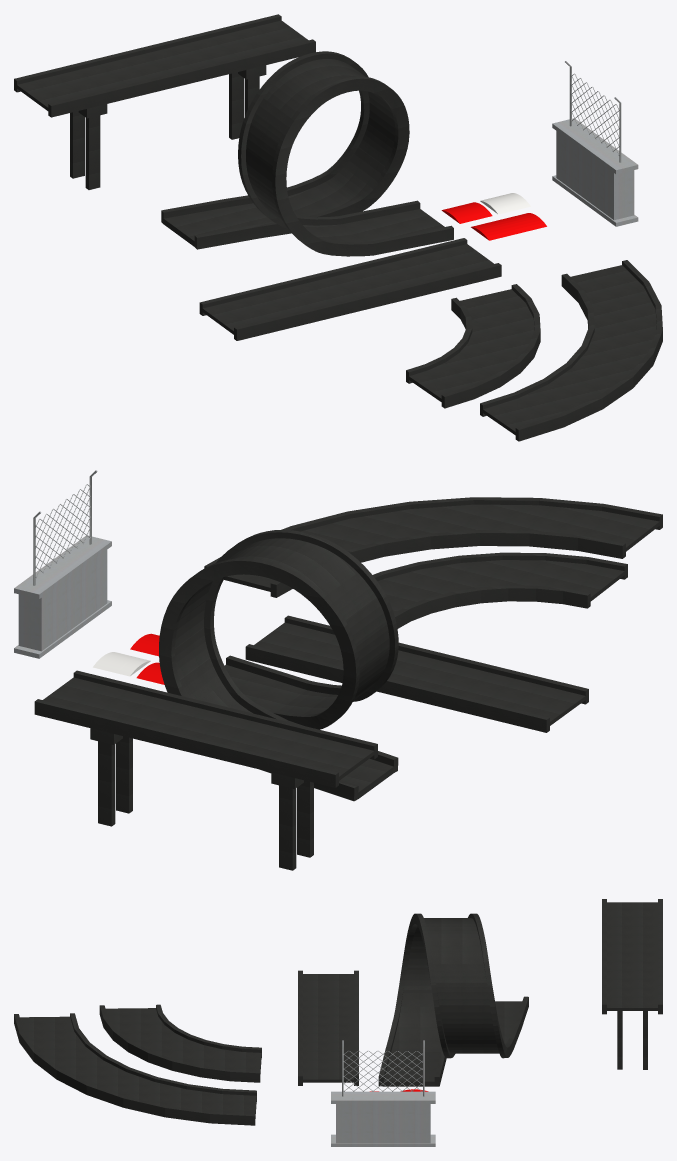
The model's file is Racetrack.fbx.
The picture shows the model from 3 angles, top to bottom: view 1: azimuth 30°, elevation 25°; view 2: azimuth 150°, elevation 25°; view 3: azimuth 270°, elevation 25°; orthographic projection. The views are drawn at different scales.
Visible parts, largest first — view 1: Rampa, Köprü, Cube_2, Düz_yol, Yamukyol_, Duvar, Teller, renk_şeridi_2, renk_şeridi_1, renk_şeridi; view 2: Rampa, Köprü, Cube_2, Düz_yol, Yamukyol_, Duvar, Teller, renk_şeridi; view 3: Rampa, Cube_2, Köprü, Yamukyol_, Düz_yol, Duvar, Teller.
Boxes of the visible parts, bbox=[...] form: Rampa: bbox=[161, 51, 453, 256]; Köprü: bbox=[14, 14, 315, 189]; Cube_2: bbox=[480, 260, 662, 441]; Düz_yol: bbox=[199, 238, 501, 340]; Yamukyol_: bbox=[406, 284, 540, 408]; Duvar: bbox=[552, 118, 638, 226]; Teller: bbox=[565, 61, 621, 162]; renk_şeridi_2: bbox=[471, 213, 546, 240]; renk_şeridi_1: bbox=[441, 202, 492, 223]; renk_şeridi: bbox=[480, 193, 530, 214]; Rampa: bbox=[159, 529, 398, 801]; Köprü: bbox=[34, 670, 377, 870]; Cube_2: bbox=[204, 497, 662, 597]; Düz_yol: bbox=[245, 615, 588, 732]; Yamukyol_: bbox=[373, 552, 627, 628]; Duvar: bbox=[14, 535, 111, 658]; Teller: bbox=[33, 470, 97, 585]; renk_şeridi: bbox=[93, 652, 150, 676]; Rampa: bbox=[378, 913, 528, 1086]; Cube_2: bbox=[14, 1013, 256, 1125]; Köprü: bbox=[602, 899, 662, 1069]; Yamukyol_: bbox=[99, 1004, 261, 1082]; Düz_yol: bbox=[298, 970, 358, 1085]; Duvar: bbox=[331, 1091, 435, 1146]; Teller: bbox=[342, 1040, 424, 1096].
Bounding box in the file's own units: 3792 × 1409 × 6175.
4 materials, 4 textured.
